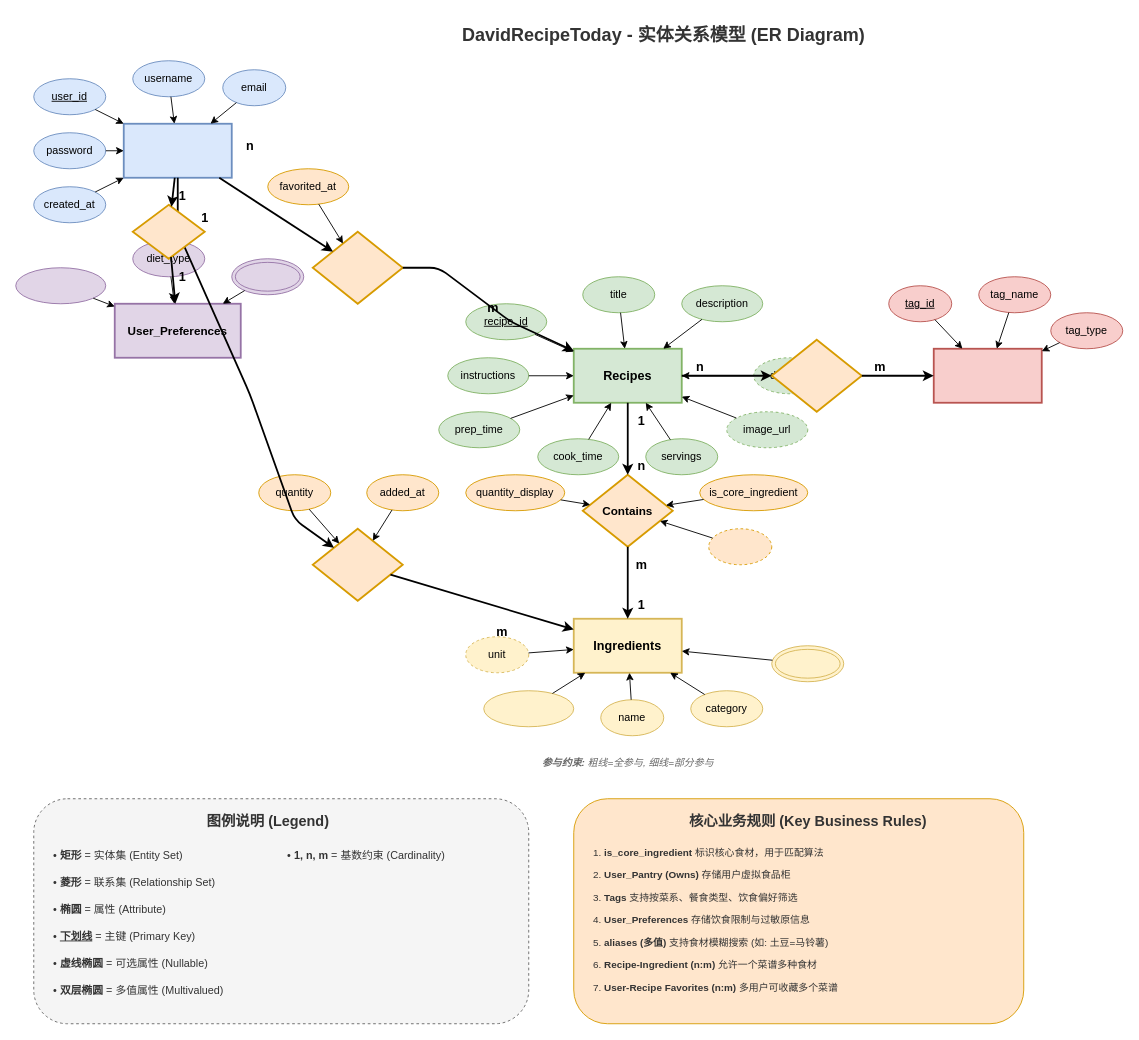
Some shapes in this 1139 by 1040 pixel diagram are drawn without their labels. The centre of each missing label's shape, as x and y in pixels:
aliases: (807,663)
allergens: (267,276)
Favorites: (357,267)
Has: (168,231)
Has_Tag: (816,375)
ingredient_id: (528,708)
notes: (740,546)
Owns: (357,564)
preference_id: (60,285)
Tags: (987,375)
Users: (177,150)
